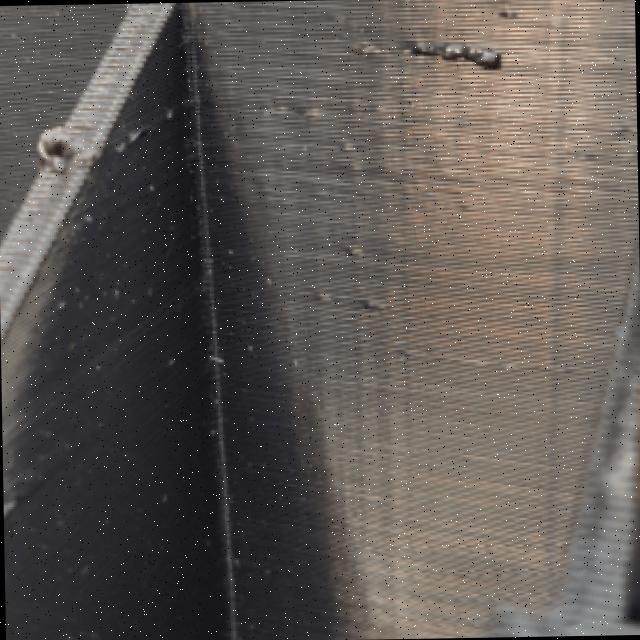blobs: (374, 5, 529, 89), (298, 235, 390, 328), (29, 110, 86, 188)
